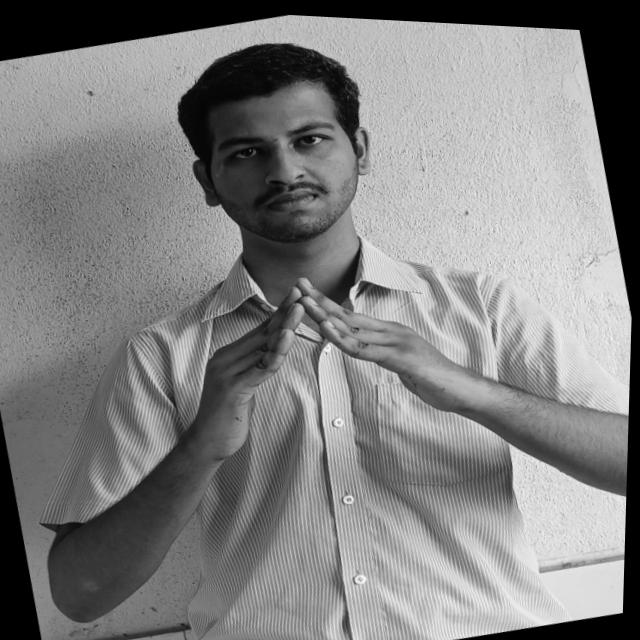Home: (180, 242, 443, 456)
